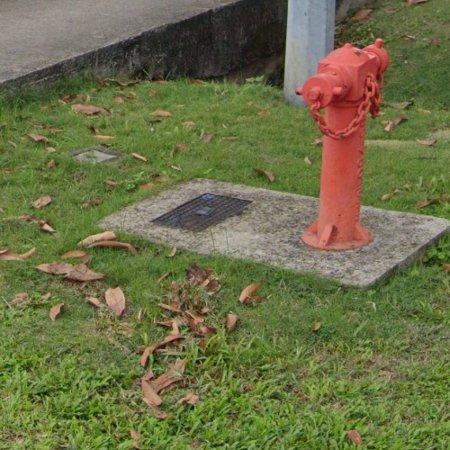a fire hydrant: (299, 39, 391, 251)
